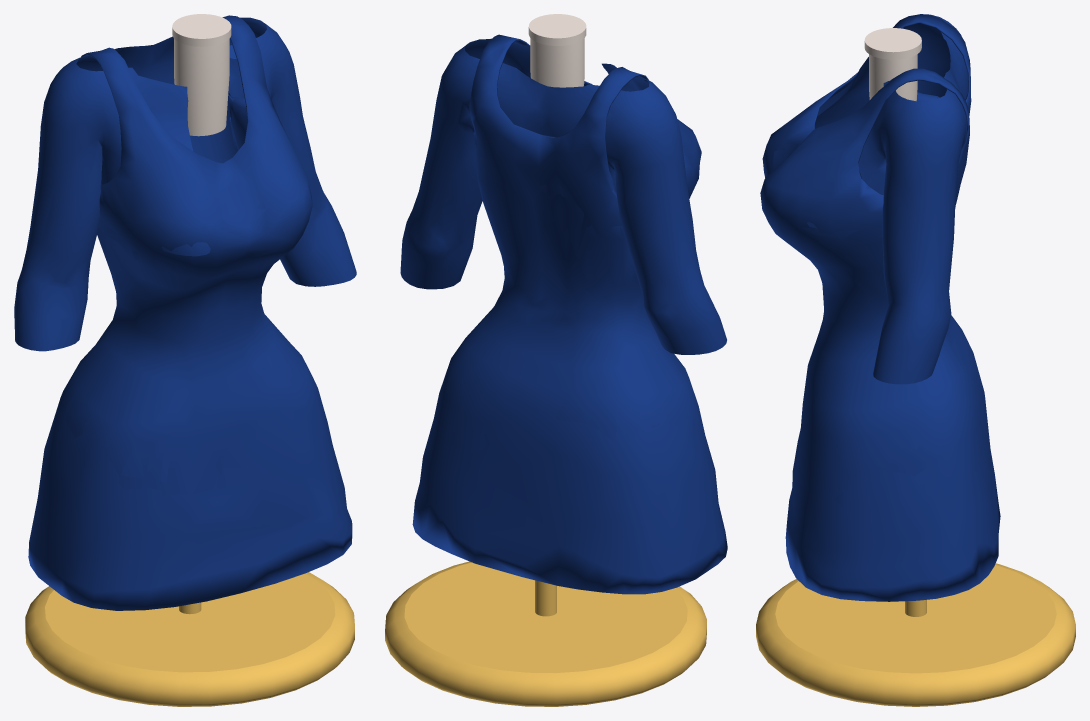
File: rain.dress.midnight-cocktail.glb
3 renders of one model, left to right at view 1: azimuth 30°, elevation 25°; view 2: azimuth 150°, elevation 25°; view 3: azimuth 270°, elevation 25°, orthographic. The views are drawn at different scales.
Parts seen in each view (by area): view 1: Tailored.Dress.midnight-cocktail.Fabric, Tailored.Dress.midnight-cocktail.Bolero, stand_base, stand_torso, stand_neck_cap; view 2: Tailored.Dress.midnight-cocktail.Fabric, Tailored.Dress.midnight-cocktail.Bolero, stand_base, stand_torso, stand_neck_cap, stand_stem; view 3: Tailored.Dress.midnight-cocktail.Fabric, stand_base, Tailored.Dress.midnight-cocktail.Bolero, stand_neck_cap, stand_torso.
Boxes of the visible parts, x1,y1,x2,y2 form: Tailored.Dress.midnight-cocktail.Fabric: (28,15,352,610); Tailored.Dress.midnight-cocktail.Bolero: (14,17,356,351); stand_base: (25,572,354,706); stand_torso: (174,39,229,136); stand_neck_cap: (172,14,231,46); Tailored.Dress.midnight-cocktail.Fabric: (412,34,727,594); Tailored.Dress.midnight-cocktail.Bolero: (400,38,726,354); stand_base: (385,561,706,706); stand_torso: (530,38,584,87); stand_neck_cap: (528,14,586,45); stand_stem: (535,580,556,616); Tailored.Dress.midnight-cocktail.Fabric: (760,14,1000,601); stand_base: (756,563,1075,706); Tailored.Dress.midnight-cocktail.Bolero: (807,14,968,384); stand_neck_cap: (864,28,921,59); stand_torso: (869,54,917,101).
Size of the model in its own units: 0.4141 by 0.75 by 0.3589.
